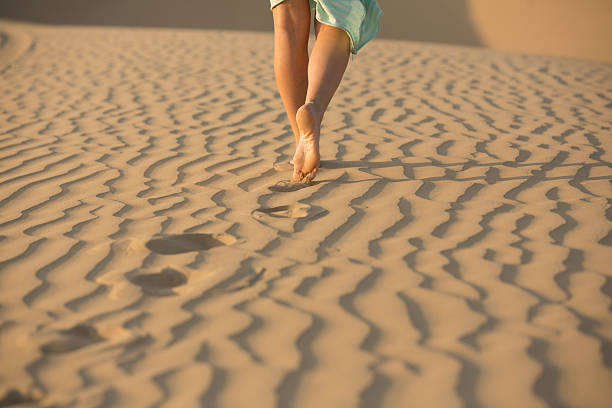human_footprint: (251, 202, 328, 233), (293, 102, 320, 182), (146, 233, 235, 254), (41, 324, 105, 353), (126, 267, 187, 295), (252, 202, 327, 218), (0, 387, 43, 406), (268, 180, 316, 191), (273, 159, 292, 171), (288, 159, 293, 165)
